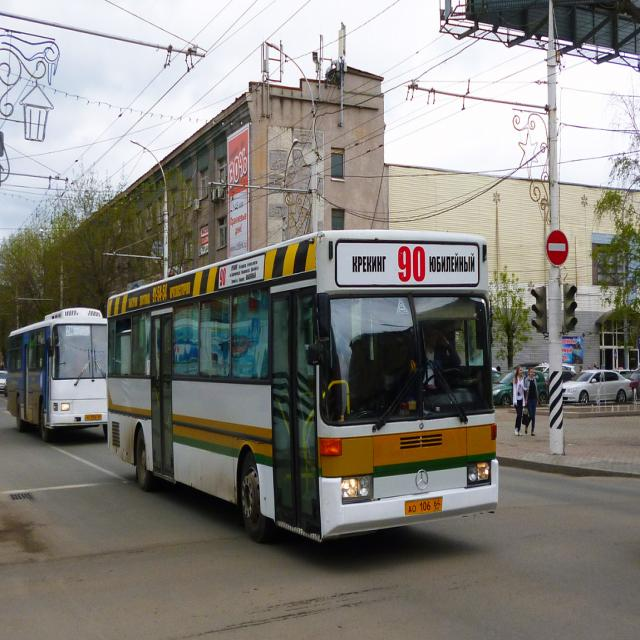number-of-bus: (393, 236, 429, 288)
